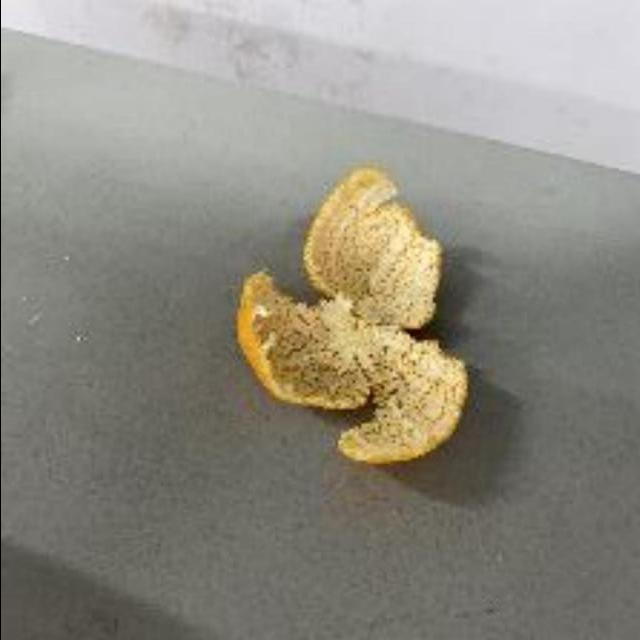orange peel: (231, 152, 473, 472)
